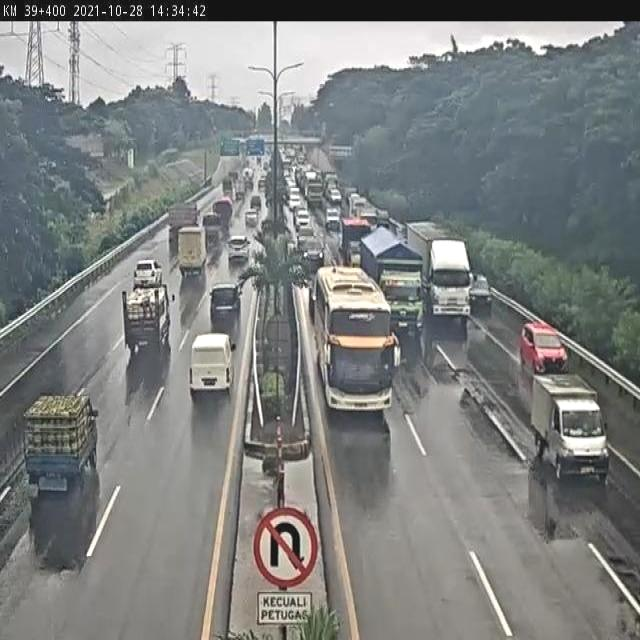Bus: (311, 265, 396, 415)
Car: (520, 319, 568, 375), (209, 282, 238, 332), (468, 274, 493, 316), (132, 260, 163, 288), (302, 240, 324, 272), (228, 235, 251, 263), (297, 222, 314, 244), (326, 188, 342, 208), (244, 208, 259, 229), (326, 208, 340, 230), (296, 207, 310, 228), (344, 187, 358, 204), (250, 194, 262, 211)
Truck: (530, 373, 608, 482), (22, 392, 99, 496), (408, 223, 471, 318), (122, 281, 171, 356), (177, 226, 207, 276)
Van: (189, 333, 234, 394)
